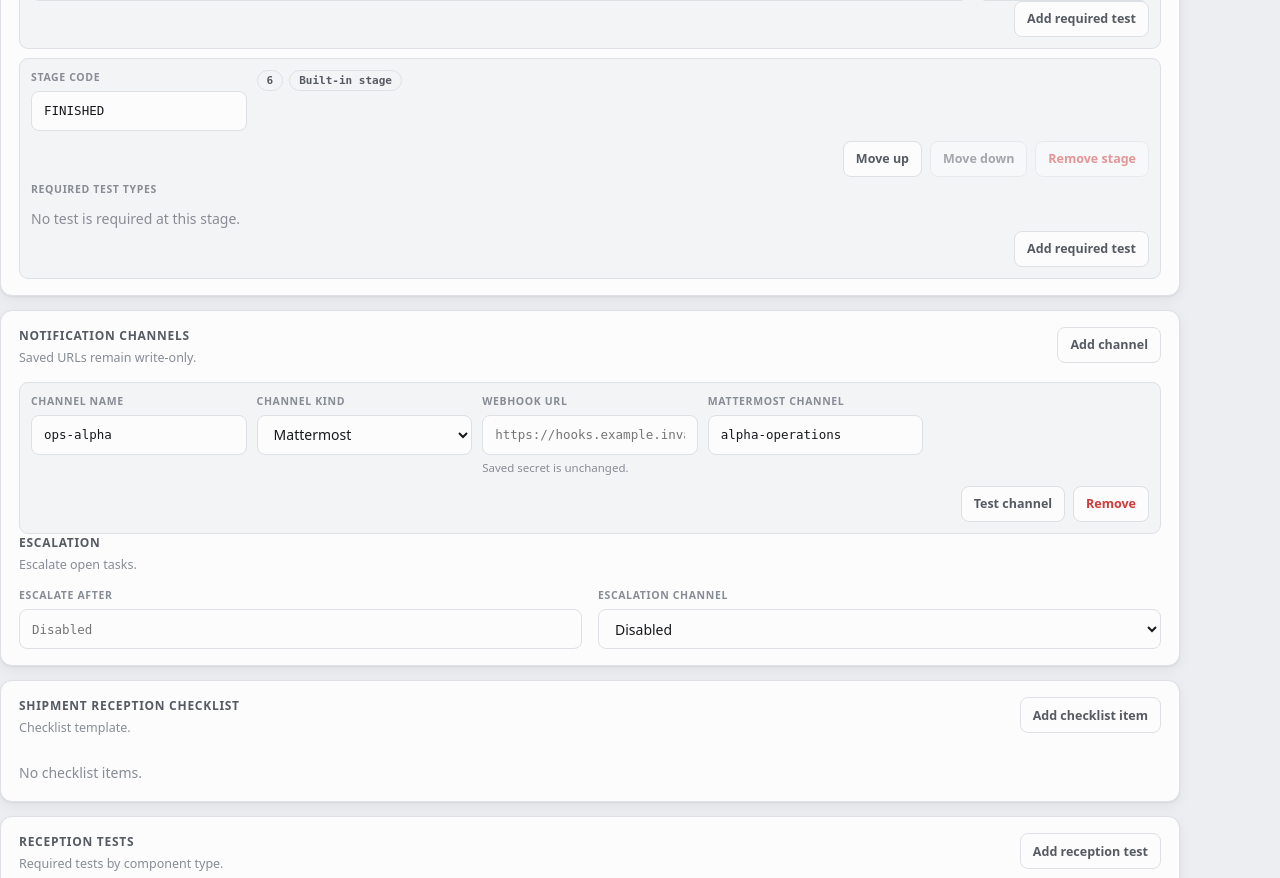
Test case: AdminSettingsScreen notification secrets › requires a fresh secret when a saved channel changes adapter kind
(page scrolled)
Select "Telegram" in the dropdown labelled "Channel kind" at (364, 434), box [257,414,472,454]
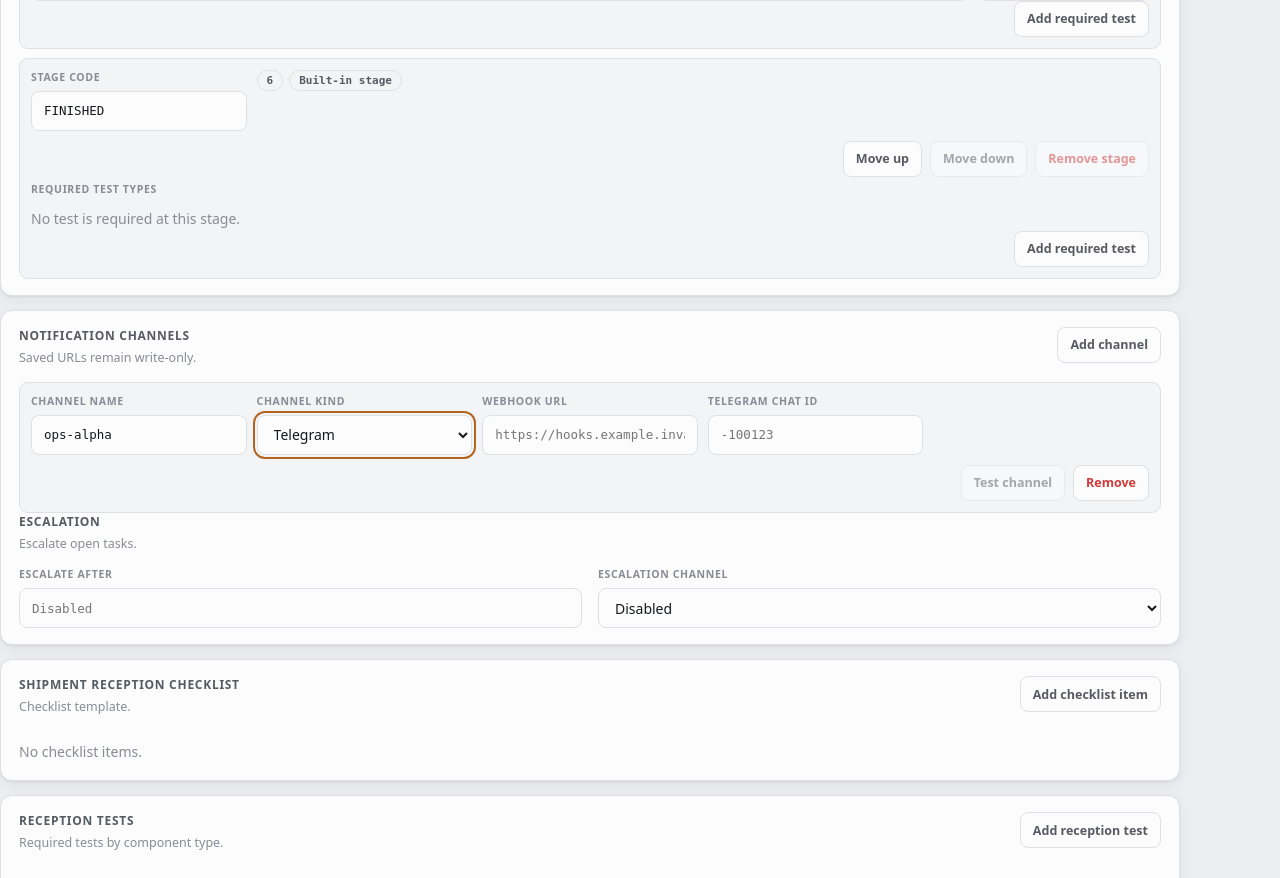
Type "@lab_alerts" into the field labelled "Telegram chat ID" at (816, 434), box [708,414,923,454]
(page scrolled)
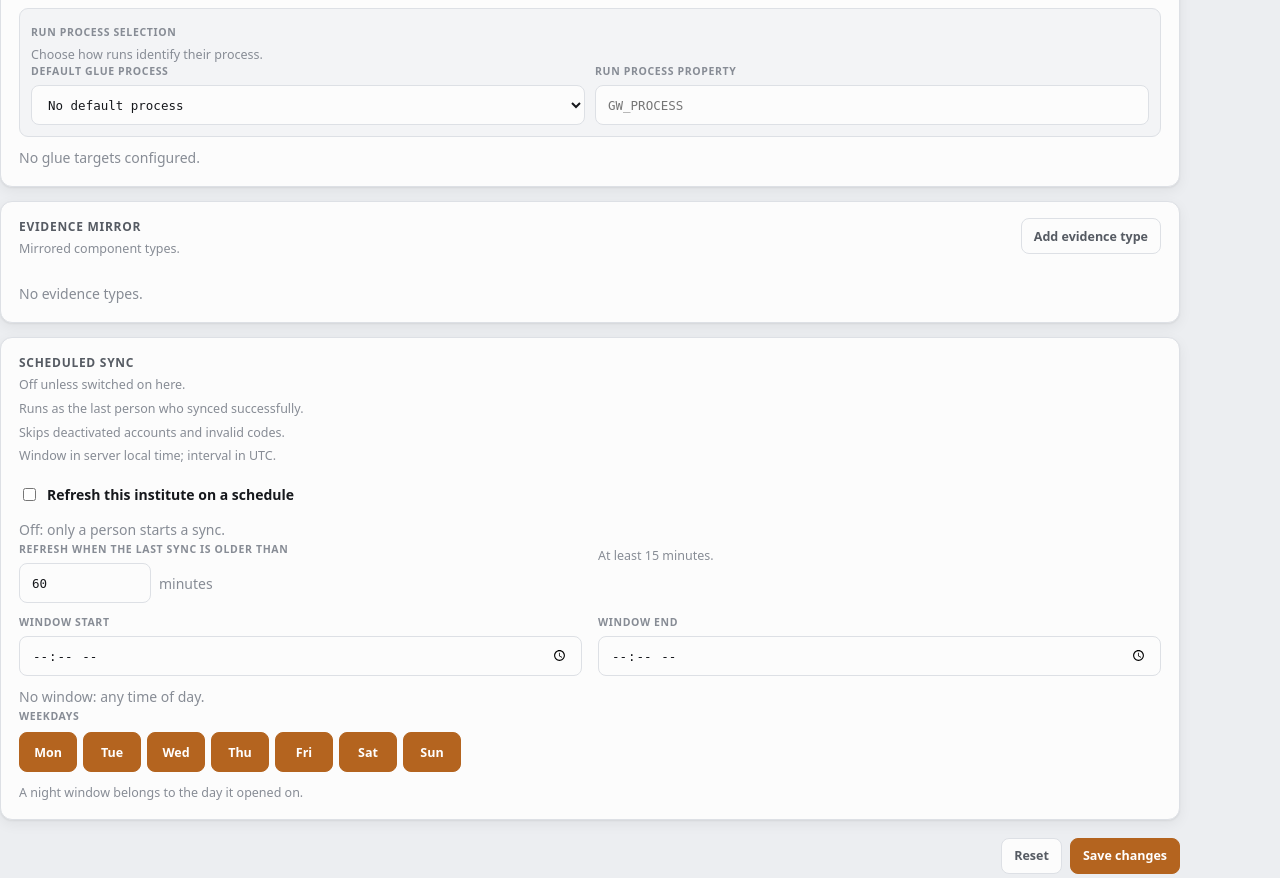
Click the button "Save changes" at (1125, 856), box [1070,838,1180,874]
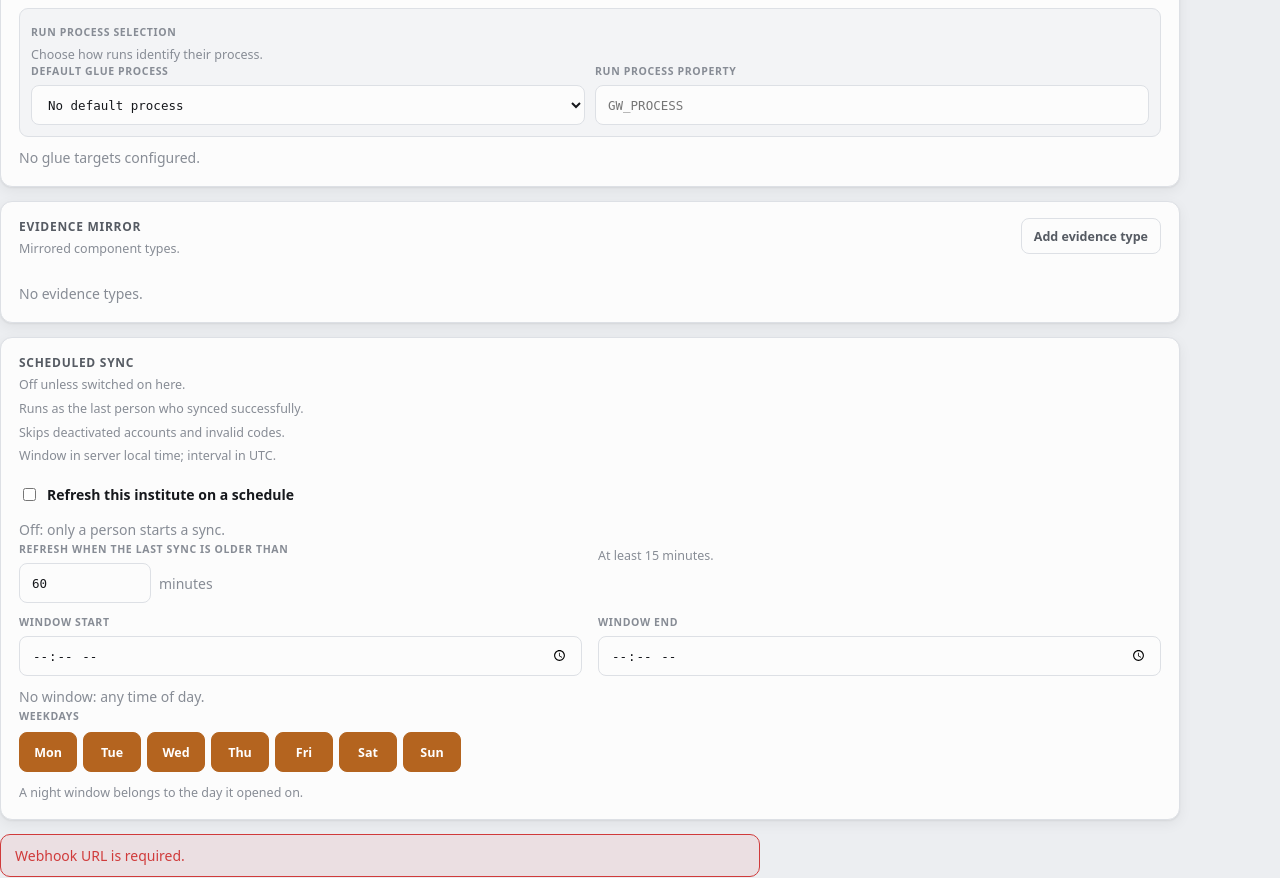
expect the message reads "Webhook URL is required.": met, box [15,846,185,865]
